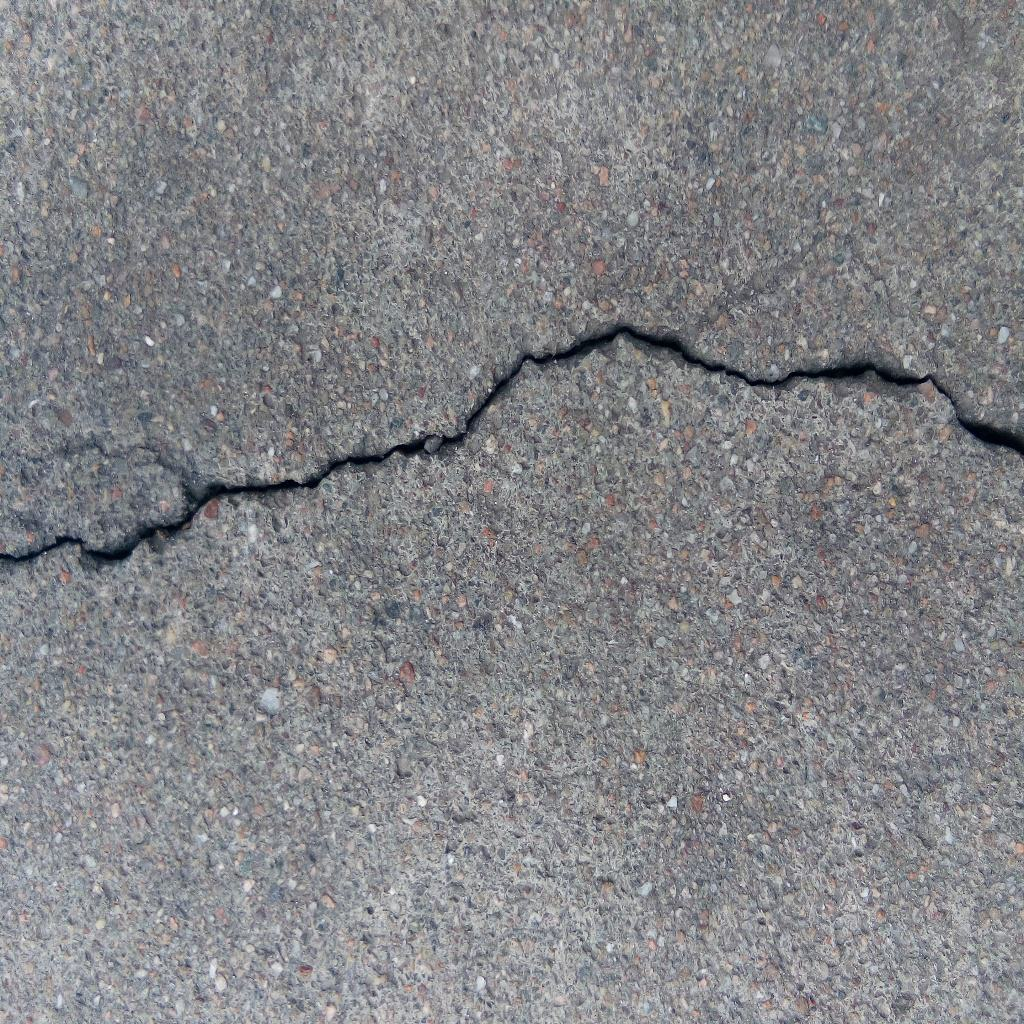Crack: (1, 322, 1024, 566)
